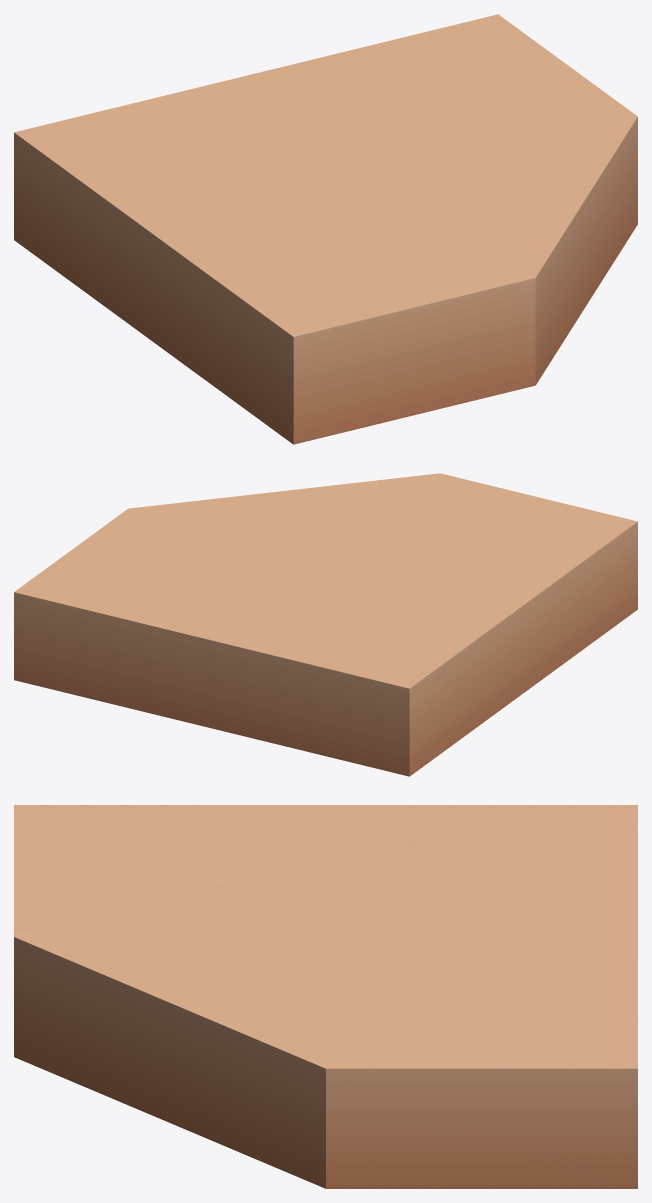
Rendered from roof-flat-corner-high.glb.
The picture shows the model from 3 angles, top to bottom: view 1: azimuth 30°, elevation 25°; view 2: azimuth 150°, elevation 25°; view 3: azimuth 270°, elevation 25°; orthographic projection. The views are drawn at different scales.
Parts seen in each view (by area): view 1: roof-flat-corner-high; view 2: roof-flat-corner-high; view 3: roof-flat-corner-high.
Boxes of the visible parts, <box> form: roof-flat-corner-high: <box>14,14,637,444</box>; roof-flat-corner-high: <box>14,473,637,776</box>; roof-flat-corner-high: <box>14,805,637,1188</box>.
Size of the model in its own units: 1 by 0.2125 by 1.
1 material, 1 textured.
